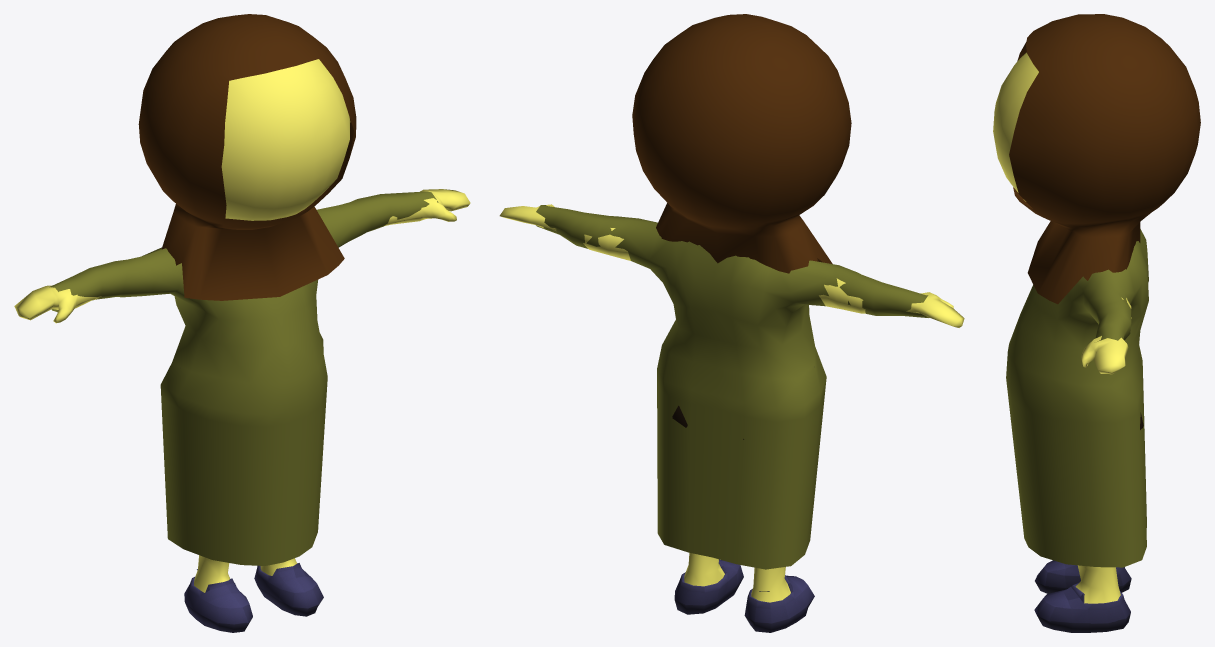
The model's file is con ai cap.fbx.
3 renders of one model, left to right at view 1: azimuth 30°, elevation 25°; view 2: azimuth 150°, elevation 25°; view 3: azimuth 270°, elevation 25°, orthographic.
Visible parts, largest first — view 1: police.007; view 2: police.007; view 3: police.007.
Boxes of the visible parts, box(x1,y1,x2,y2) form: police.007: box(14, 14, 470, 632); police.007: box(499, 14, 964, 632); police.007: box(993, 14, 1200, 632).
Size of the model in its own units: 154 by 189 by 61.22.
